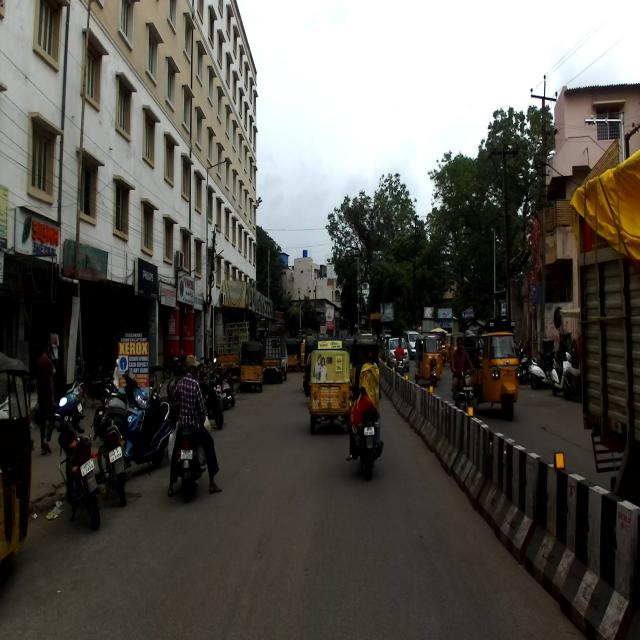autorickshaw: (460, 319, 519, 419), (303, 336, 352, 436)
motorcycle: (53, 396, 106, 532), (91, 388, 134, 506), (173, 386, 209, 499), (348, 380, 385, 480), (74, 354, 118, 412), (161, 354, 189, 432)
scooter: (119, 374, 171, 473)
